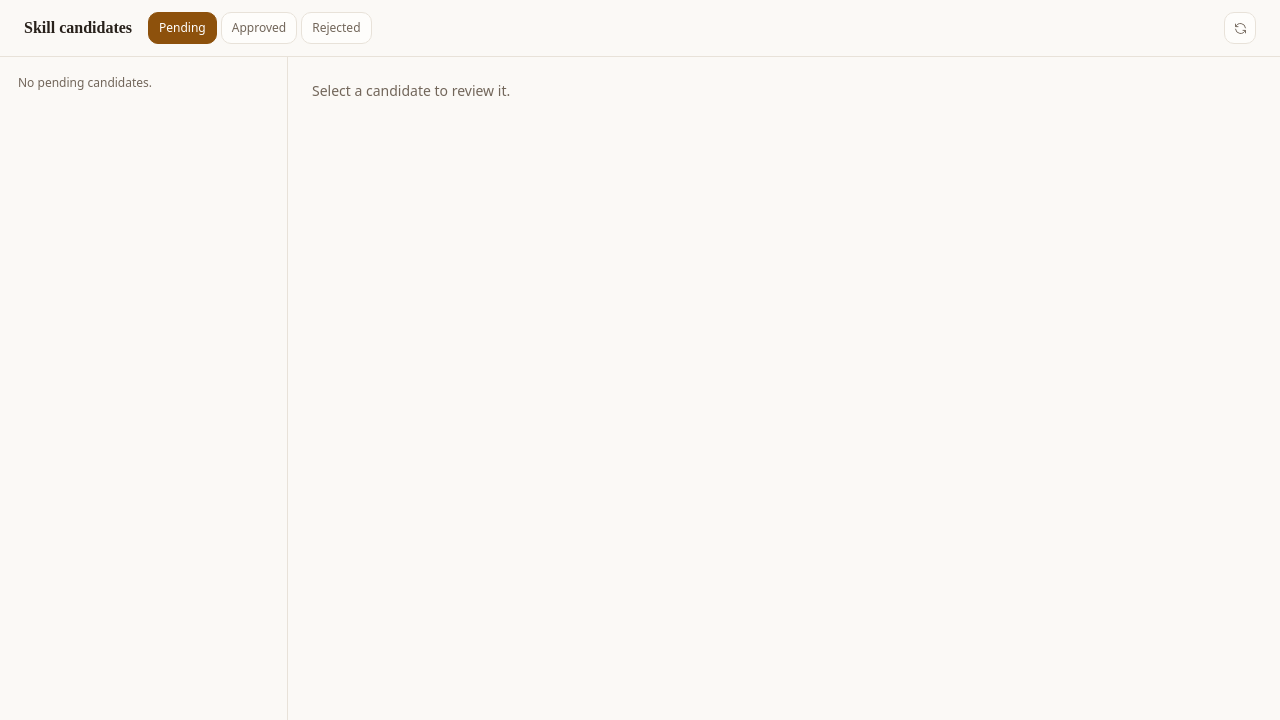
it: SkillCandidatesPage › shows materialized backend badges for an approved candidate
This screenshot has width=1280, height=720.
Expected: the text "No pending candidates." is shown, [18,74,152,91]
Click the tab "approved".
click(259, 28)  # box [221,12,297,44]
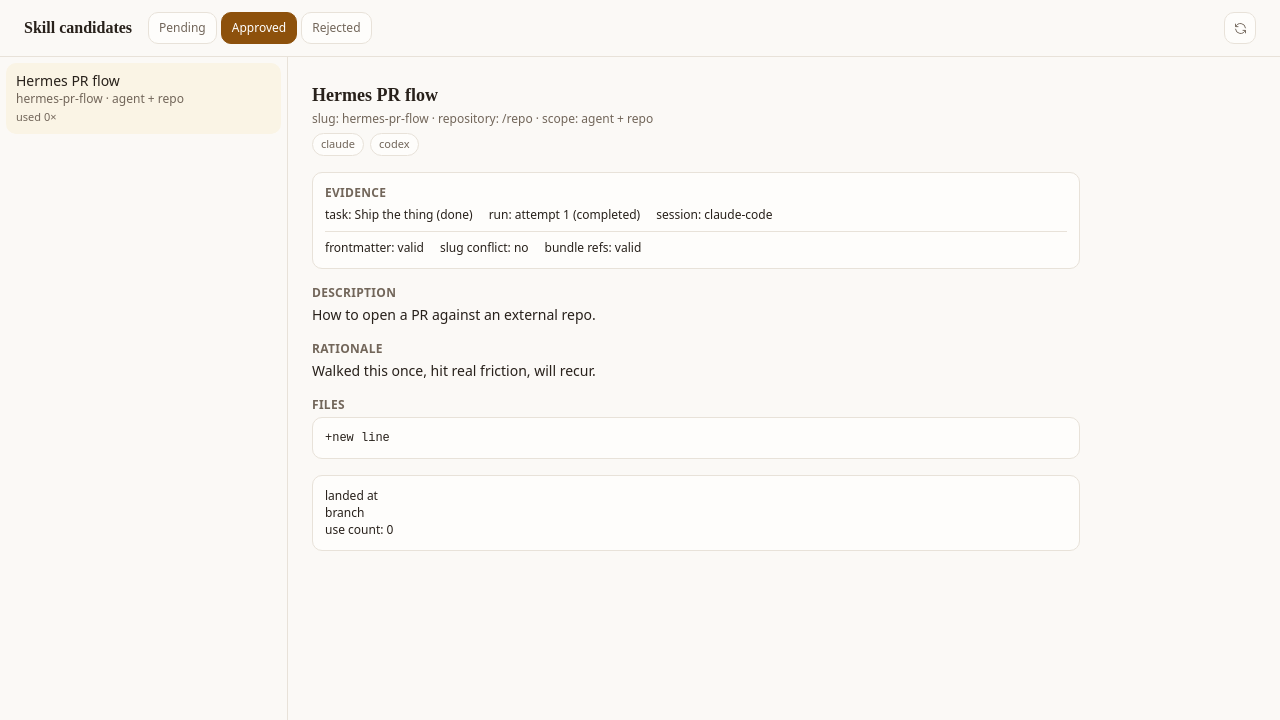
Result: the heading "Hermes PR flow" is shown at [312,85,438,105]
Result: the text "claude" is shown at [312,133,364,156]
Result: the text "codex" is shown at [370,133,419,156]
